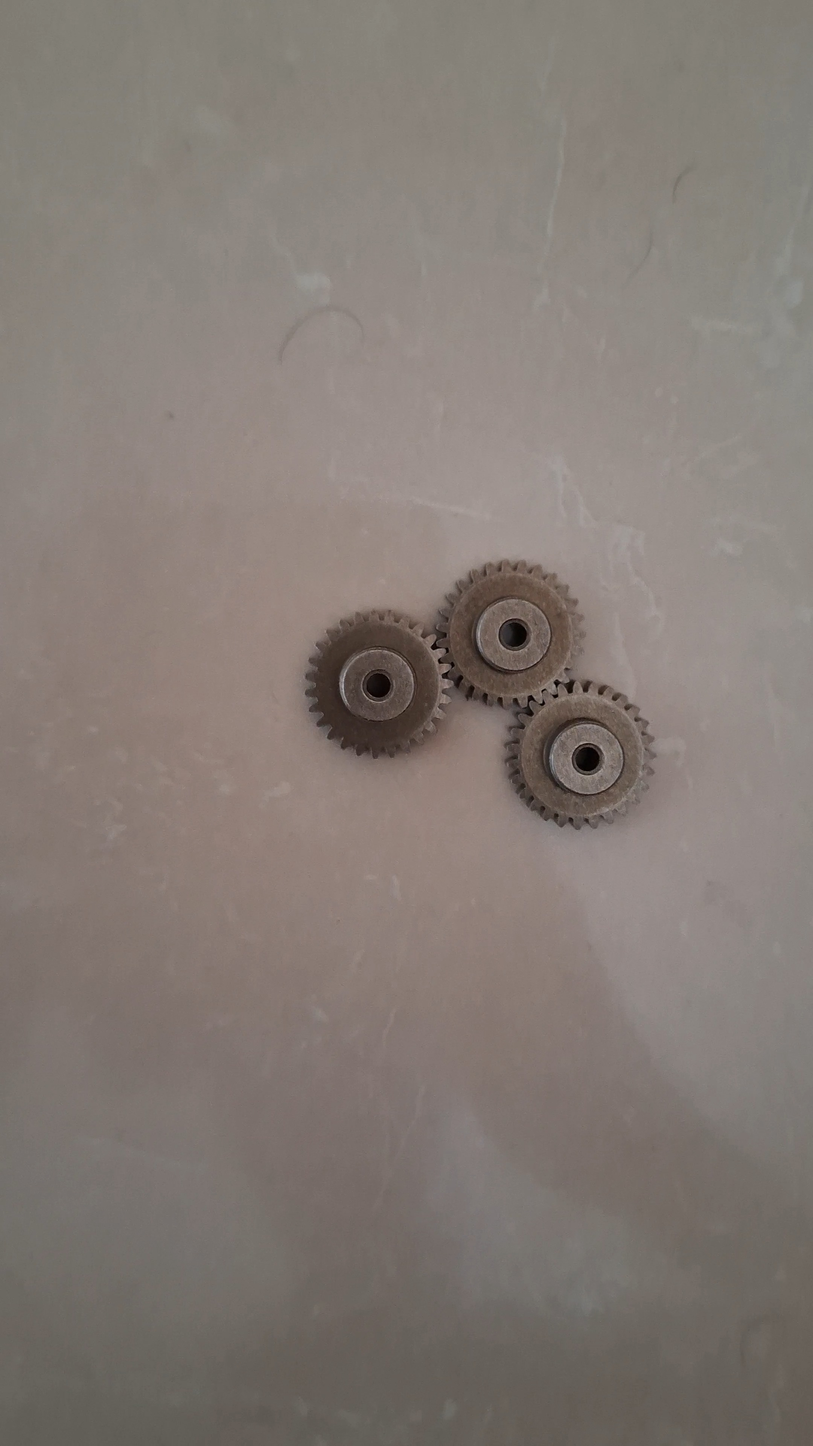spur gear: (437, 560, 584, 706), (507, 682, 653, 828), (306, 613, 449, 757)
